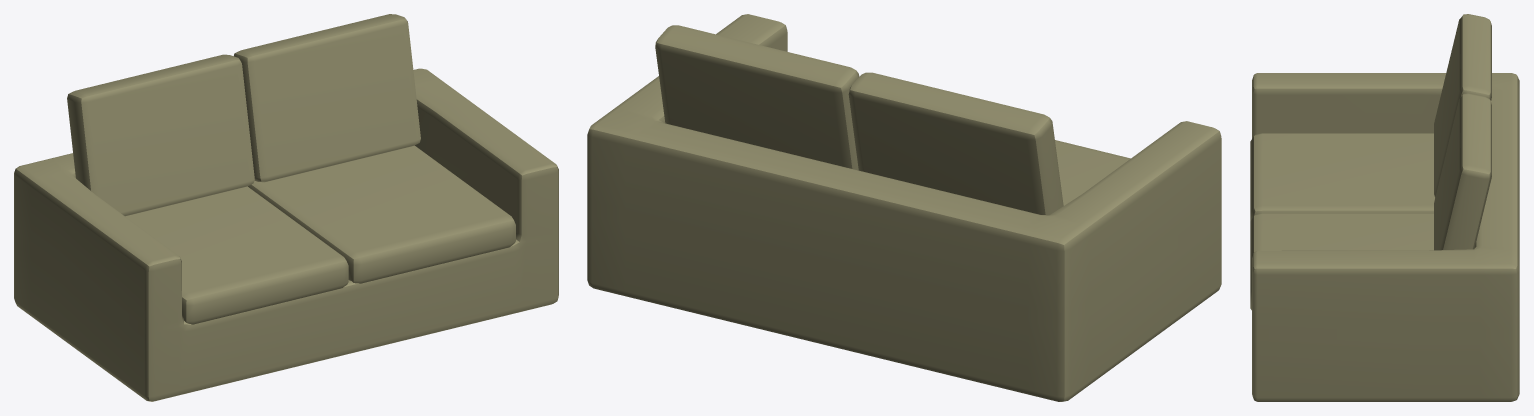
Rendered from Sofa.fbx.
3 renders of one model, left to right at view 1: azimuth 30°, elevation 25°; view 2: azimuth 150°, elevation 25°; view 3: azimuth 270°, elevation 25°, orthographic. The views are drawn at different scales.
Visible parts, largest first — view 1: Sofa; view 2: Sofa; view 3: Sofa.
Part boxes in pixels (x1,y1,x2,y2): Sofa: (14,14,558,401); Sofa: (587,14,1221,401); Sofa: (1250,14,1519,401).
Bounding box in the file's own units: 210 × 106 × 121.
